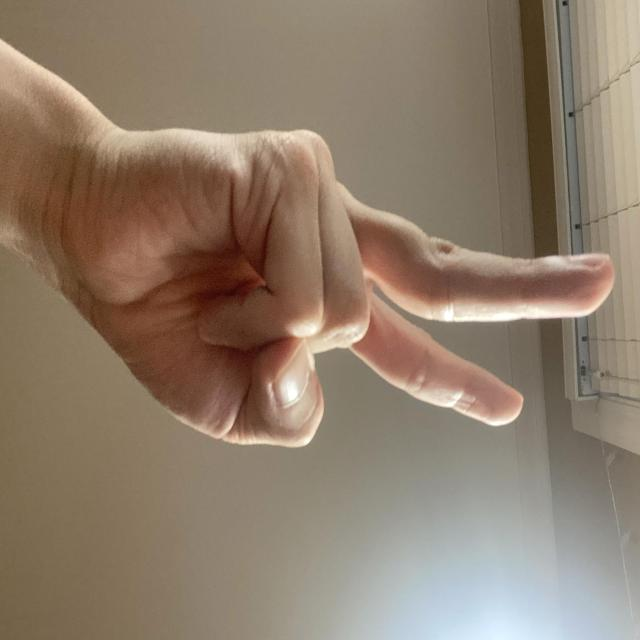V: (235, 24, 511, 640)
